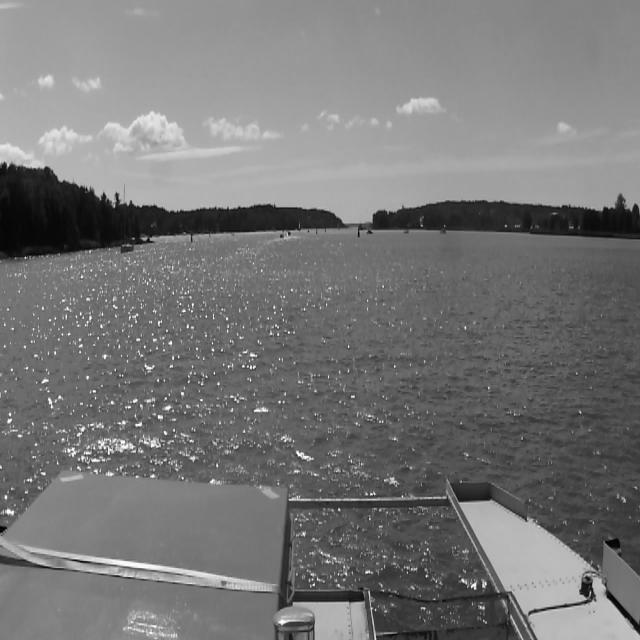buoy: (358, 227, 360, 237), (191, 233, 193, 242), (316, 228, 318, 234), (324, 228, 326, 232)
ship: (120, 184, 134, 252), (285, 226, 293, 236), (440, 228, 447, 235), (367, 229, 373, 235), (280, 234, 284, 238)
